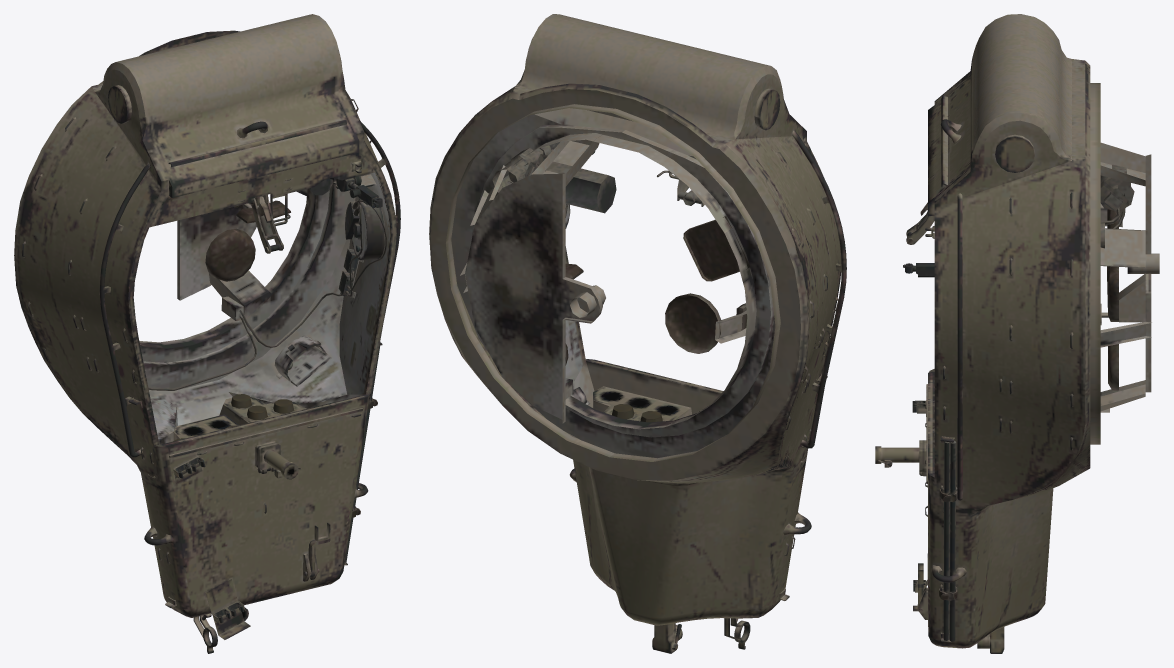
Rendered from Turret_01.glb.
3 renders of one model, left to right at view 1: azimuth 30°, elevation 25°; view 2: azimuth 150°, elevation 25°; view 3: azimuth 270°, elevation 25°, orthographic. The views are drawn at different scales.
Parts seen in each view (by area): view 1: set_0_group_0; view 2: set_0_group_0; view 3: set_0_group_0.
Boxes of the visible parts, <box> form: set_0_group_0: <box>14,14,400,653</box>; set_0_group_0: <box>429,14,846,653</box>; set_0_group_0: <box>875,14,1159,653</box>.
Size of the model in its own units: 2.11 by 3.3 by 1.43.
Materials: 1 (1 with a texture image).
